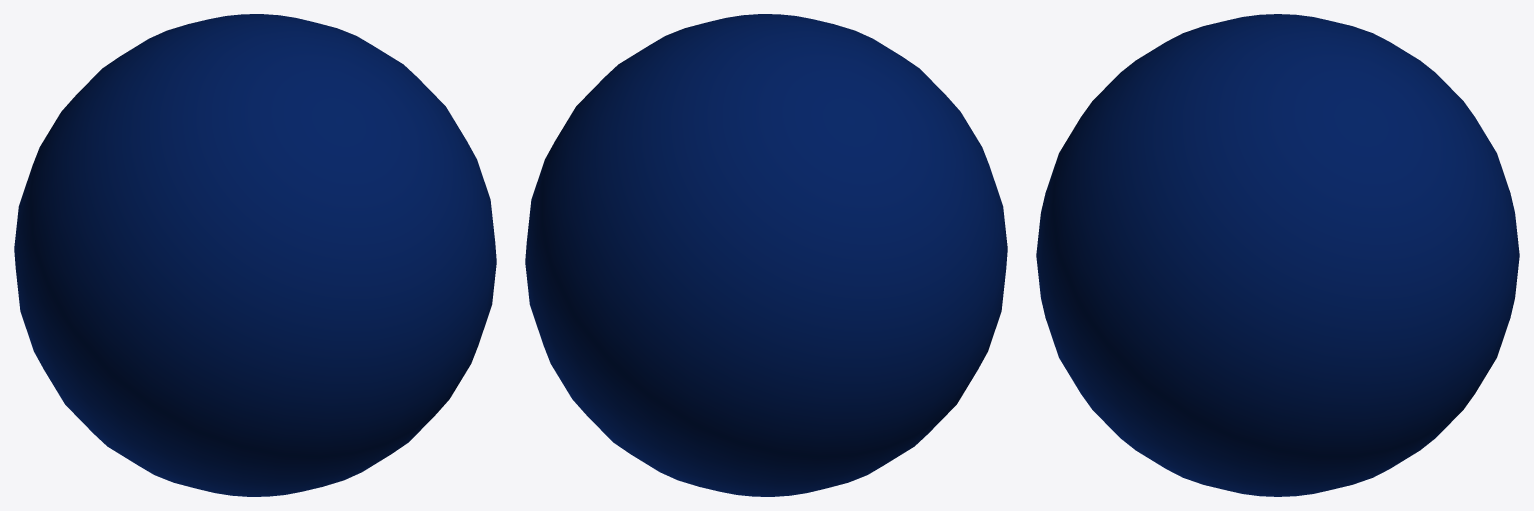
File: OrbCollectible.fbx
The picture shows the model from 3 angles, left to right: view 1: azimuth 30°, elevation 25°; view 2: azimuth 150°, elevation 25°; view 3: azimuth 270°, elevation 25°; orthographic projection.
Parts seen in each view (by area): view 1: Sphere.010; view 2: Sphere.010; view 3: Sphere.010.
Part boxes in pixels (x1,y1,x2,y2): Sphere.010: (14,14,496,496); Sphere.010: (525,14,1007,496); Sphere.010: (1036,14,1519,496).
Size of the model in its own units: 316 by 316 by 316.
